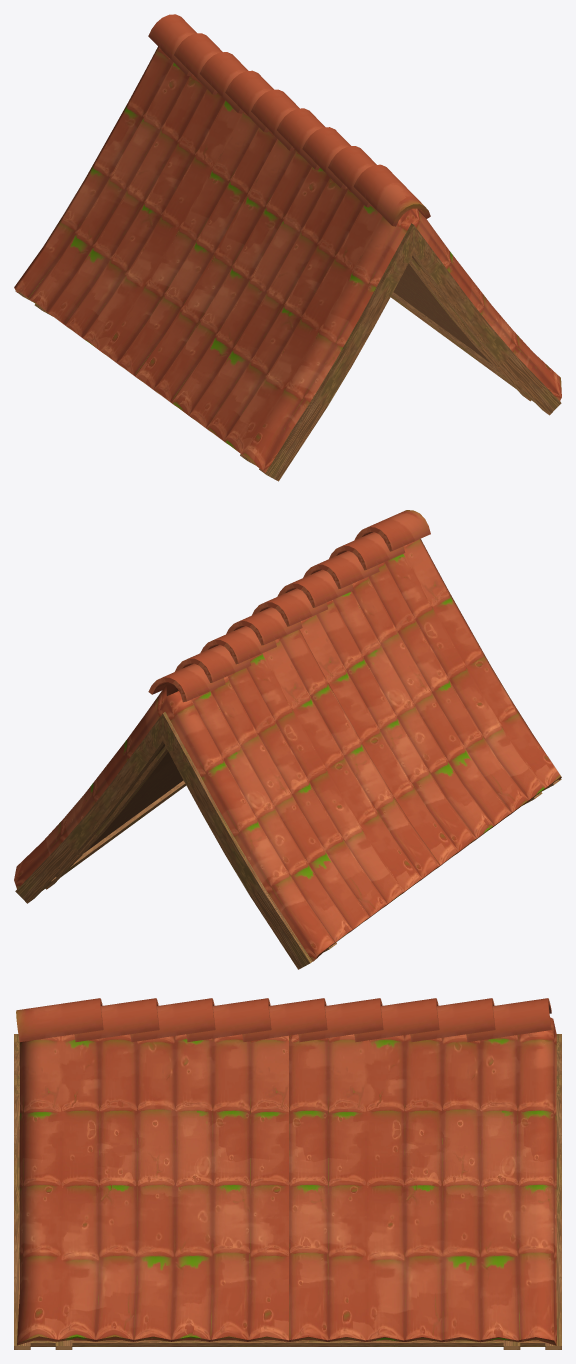
File: Roof_RoundTiles_4x6.gltf
The picture shows the model from 3 angles, top to bottom: view 1: azimuth 30°, elevation 25°; view 2: azimuth 150°, elevation 25°; view 3: azimuth 270°, elevation 25°; orthographic projection. The views are drawn at different scales.
Visible parts, largest first — view 1: Roof_RoundTiles_4x6; view 2: Roof_RoundTiles_4x6; view 3: Roof_RoundTiles_4x6.
Part boxes in pixels (bbox=[...]): Roof_RoundTiles_4x6: bbox=[14, 14, 561, 481]; Roof_RoundTiles_4x6: bbox=[14, 510, 561, 969]; Roof_RoundTiles_4x6: bbox=[14, 998, 561, 1349].
Bounding box in the file's own units: 5.51 × 4.23 × 7.57.
Materials: 2 (2 with a texture image).
